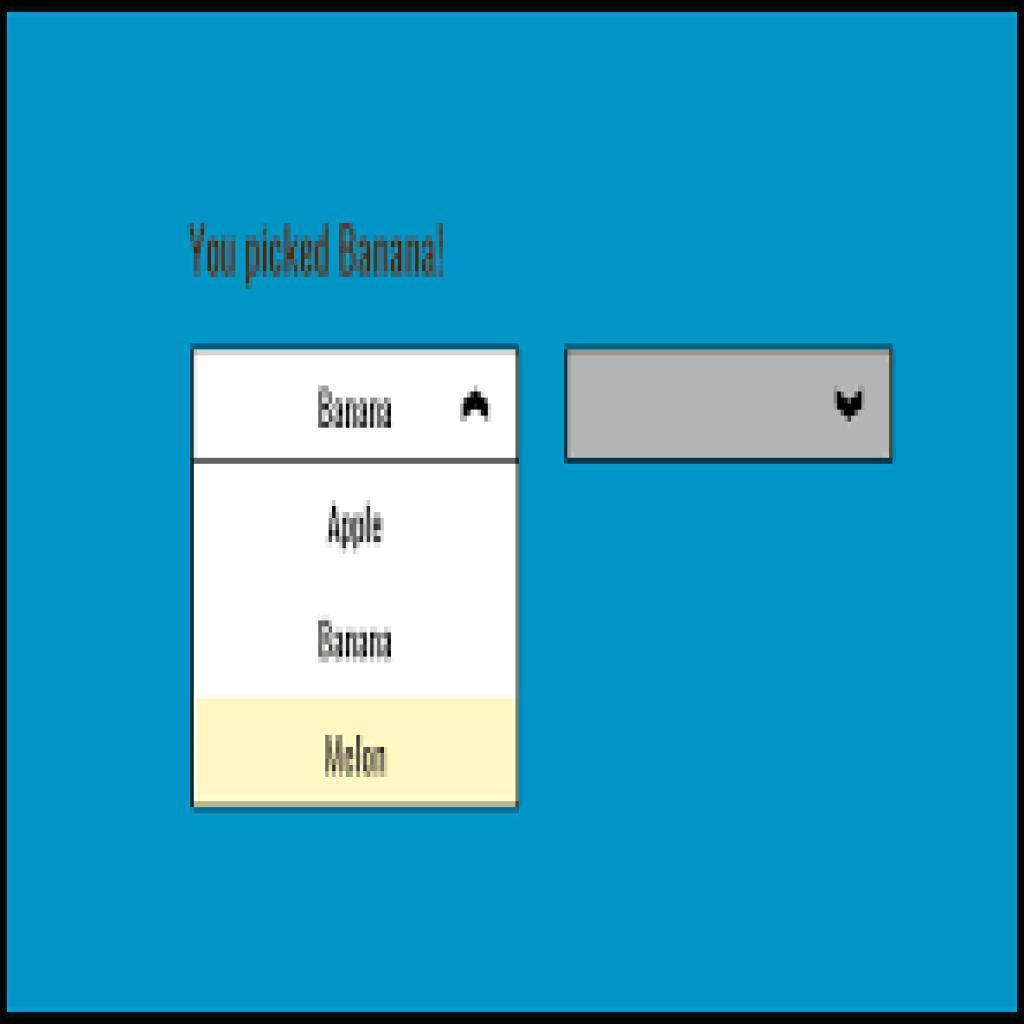button: (193, 696, 516, 806)
dropdown: (566, 349, 892, 460), (196, 351, 517, 455)
label: (314, 494, 395, 559), (313, 611, 398, 667)
